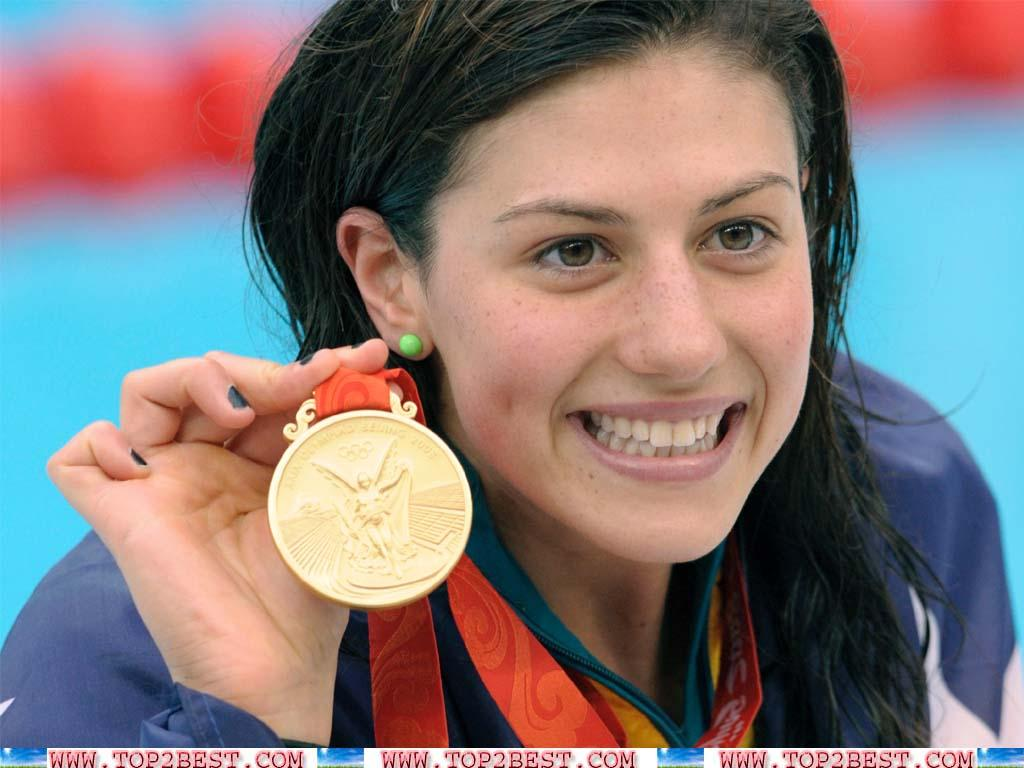face: (438, 126, 814, 566)
